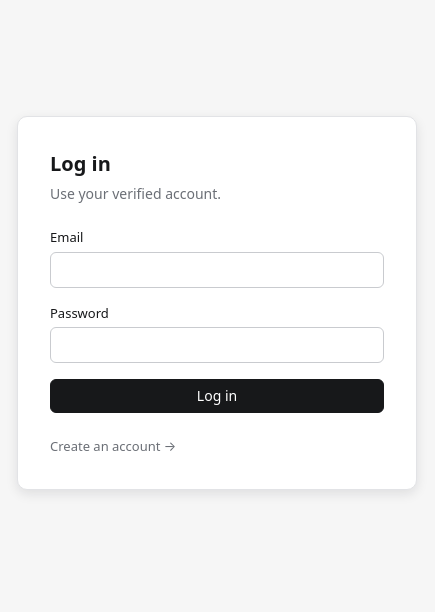
Test: login unverified › reveals the resend block on 403 and resends the email
Type "alice@example.com" into the field labelled "Email" at (217, 270), box [50,252,384,288]
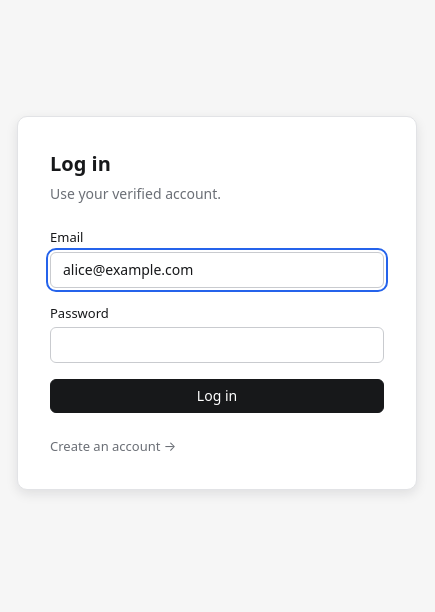
Type "password123" into the password field labelled "Password" at (217, 345), box [50,327,384,363]
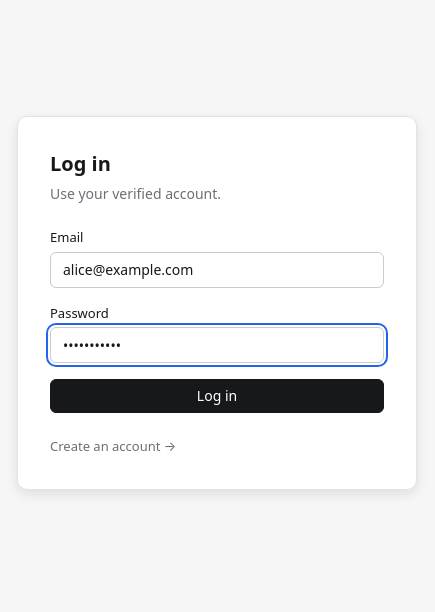
Click the button "Log in" at (217, 396), box [50,379,384,413]
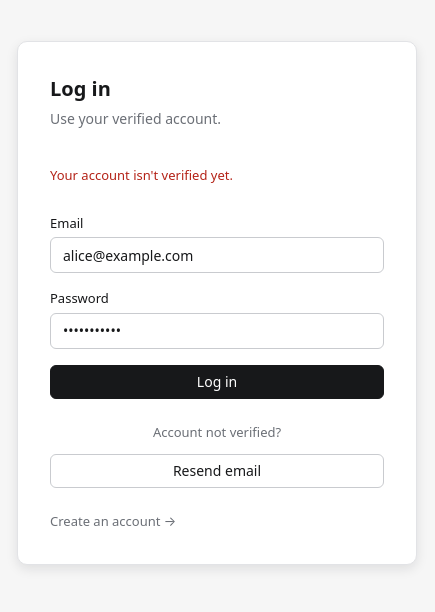
Result: the text "Your account isn't verified yet." is shown at [50,166,233,184]
Click the button "Resend email" at (217, 471), box [50,454,384,488]
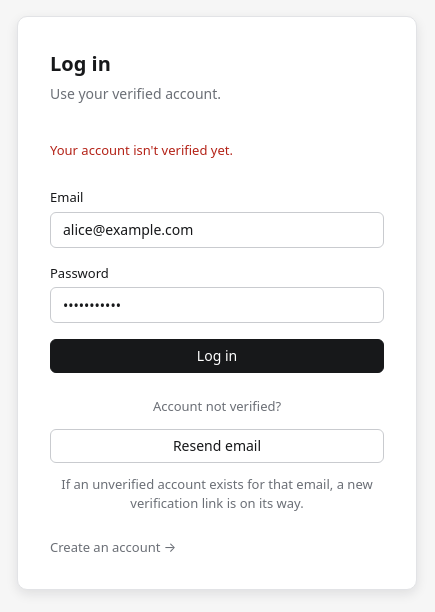
Result: the text "a new verification link is on its way" is shown at [61,475,373,512]
